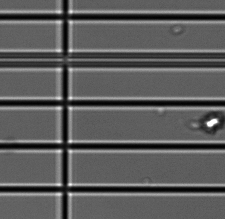Living Cell: (200, 111, 222, 134)
